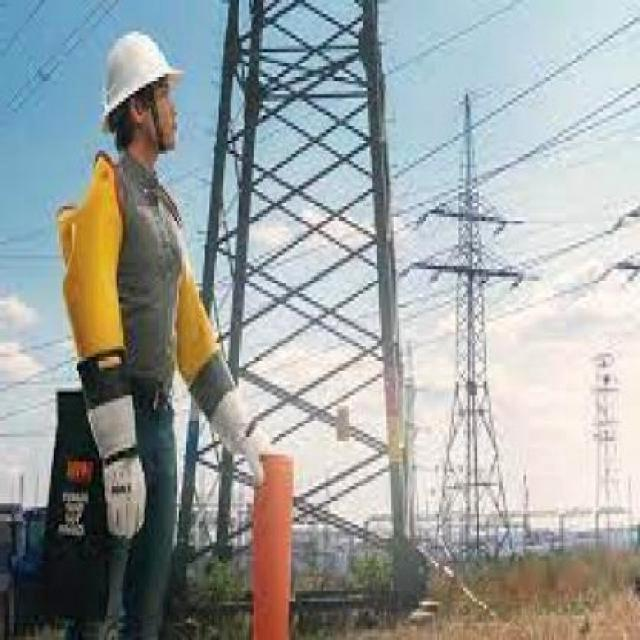Hard_hat: (95, 31, 186, 110)
